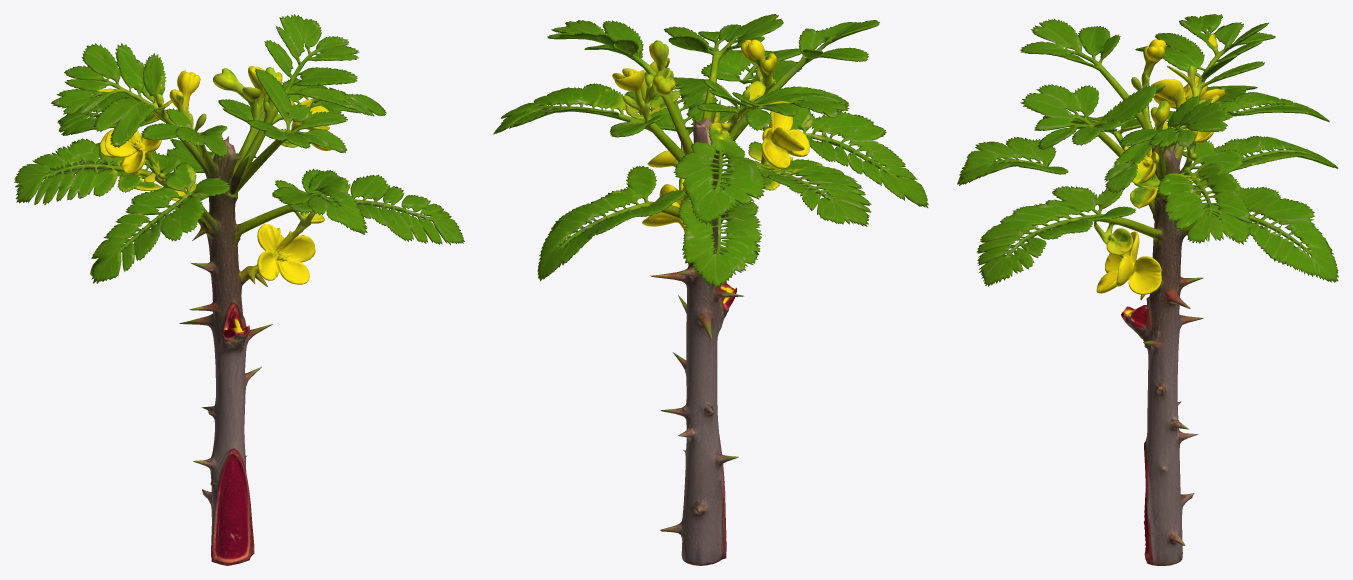
Rendered from sumu.glb.
3 views of the same model, side by side, from view 1: azimuth 30°, elevation 25°; view 2: azimuth 150°, elevation 25°; view 3: azimuth 270°, elevation 25° (orthographic). The views are drawn at different scales.
Parts seen in each view (by area): view 1: node_0; view 2: node_0; view 3: node_0.
Part boxes in pixels (left/top/right/bottom): node_0: left=14, top=14, right=464, bottom=565; node_0: left=493, top=14, right=928, bottom=565; node_0: left=957, top=14, right=1338, bottom=565.
Size of the model in its own units: 0.7763 by 1.07 by 0.7423.
Materials: 1 (1 with a texture image).
